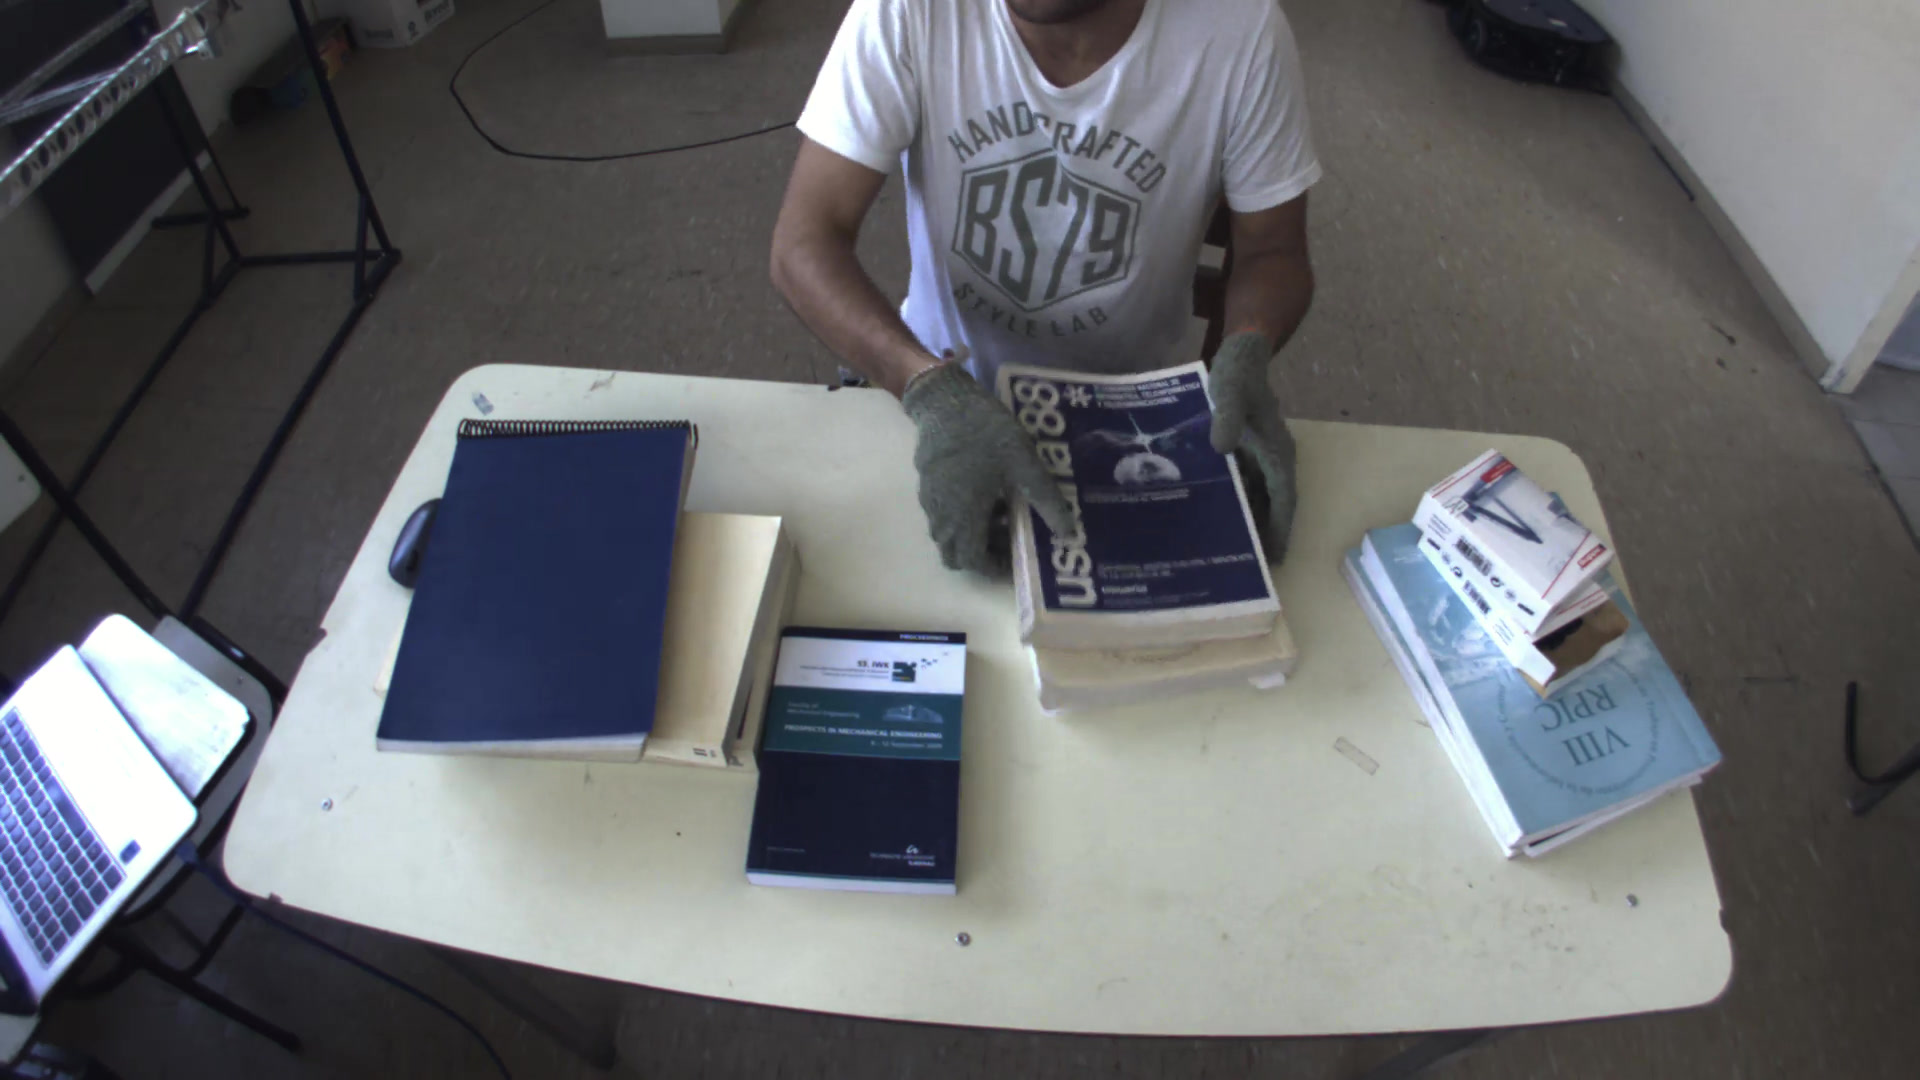hand: (885, 352, 1050, 571), (1199, 320, 1313, 537)
